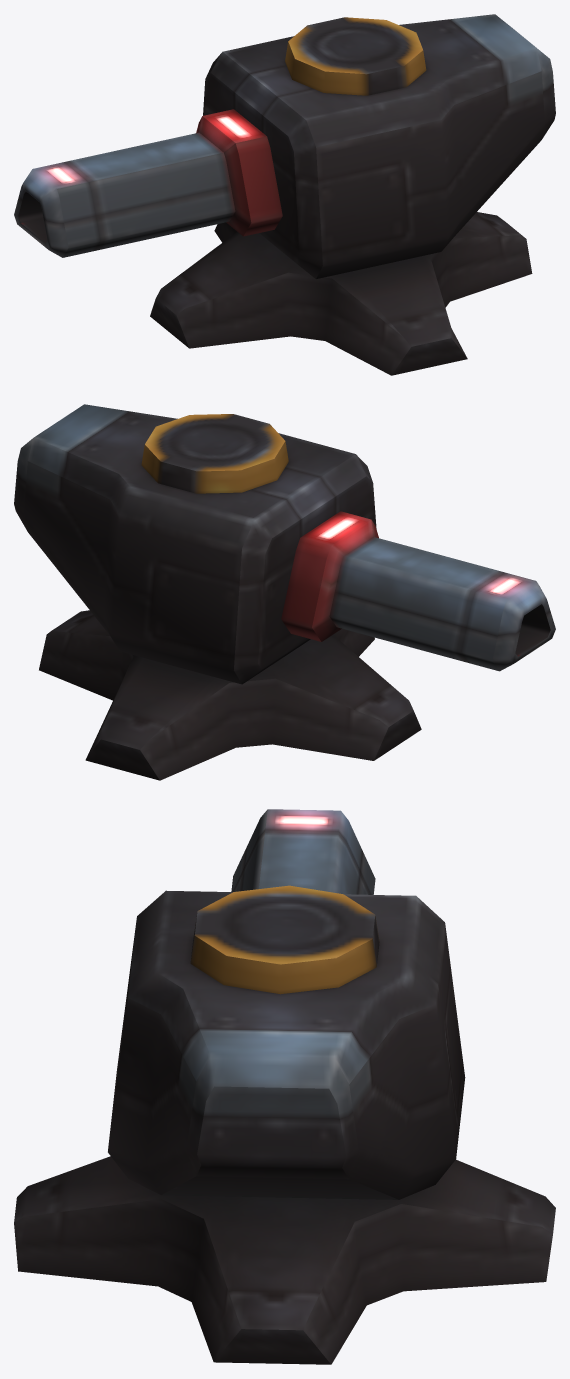
The model's file is Tow_Laser1.fbx.
The picture shows the model from 3 angles, top to bottom: view 1: azimuth 30°, elevation 25°; view 2: azimuth 150°, elevation 25°; view 3: azimuth 270°, elevation 25°; orthographic projection. The views are drawn at different scales.
Visible parts, largest first — view 1: Turret, Base, Barrel; view 2: Turret, Base, Barrel; view 3: Turret, Base, Barrel.
Part boxes in pixels (bbox=[...]): Turret: bbox=[203, 14, 555, 278]; Base: bbox=[150, 212, 532, 375]; Barrel: bbox=[14, 109, 282, 257]; Turret: bbox=[14, 404, 376, 684]; Base: bbox=[39, 610, 421, 780]; Barrel: bbox=[281, 511, 555, 671]; Turret: bbox=[108, 885, 465, 1199]; Base: bbox=[14, 1156, 555, 1364]; Barrel: bbox=[231, 809, 375, 894].
Size of the model in its own units: 208 by 99.68 by 145.
Materials: 1 (1 with a texture image).
